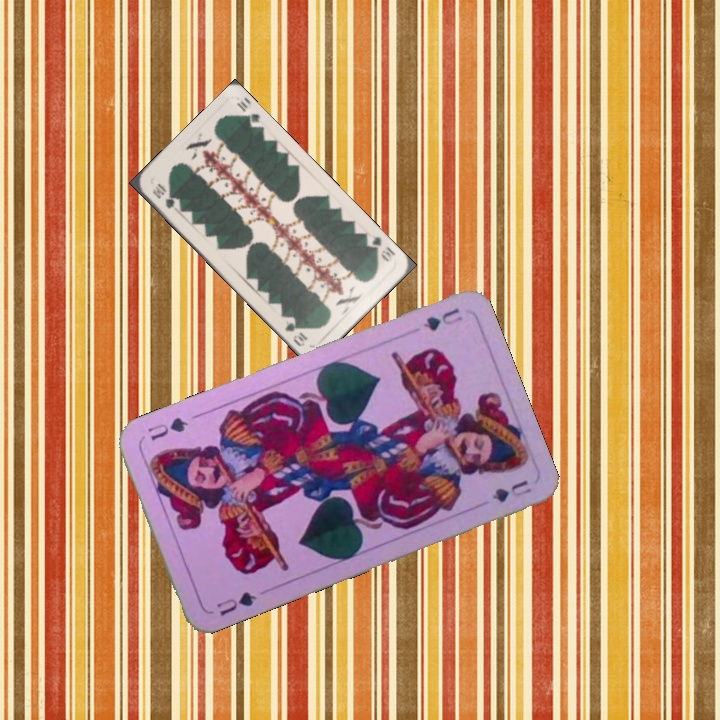G10: (362, 231, 398, 265), (148, 180, 177, 211)
GU: (212, 587, 260, 619), (419, 304, 465, 334)
